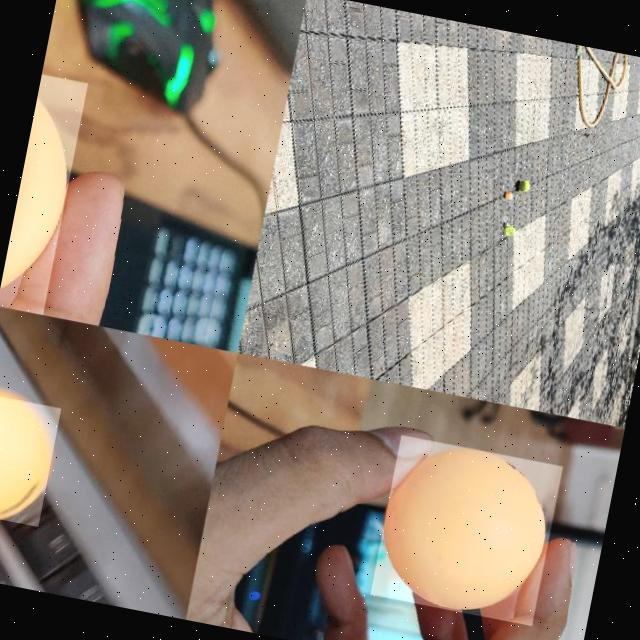ping-pong-ball: (370, 433, 564, 626), (0, 71, 88, 314), (0, 389, 63, 526), (504, 192, 514, 198)
